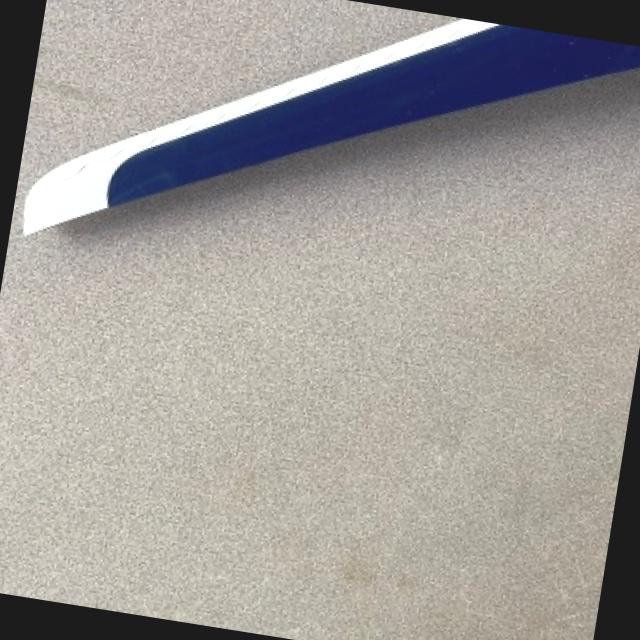healthy: (21, 18, 640, 233)
